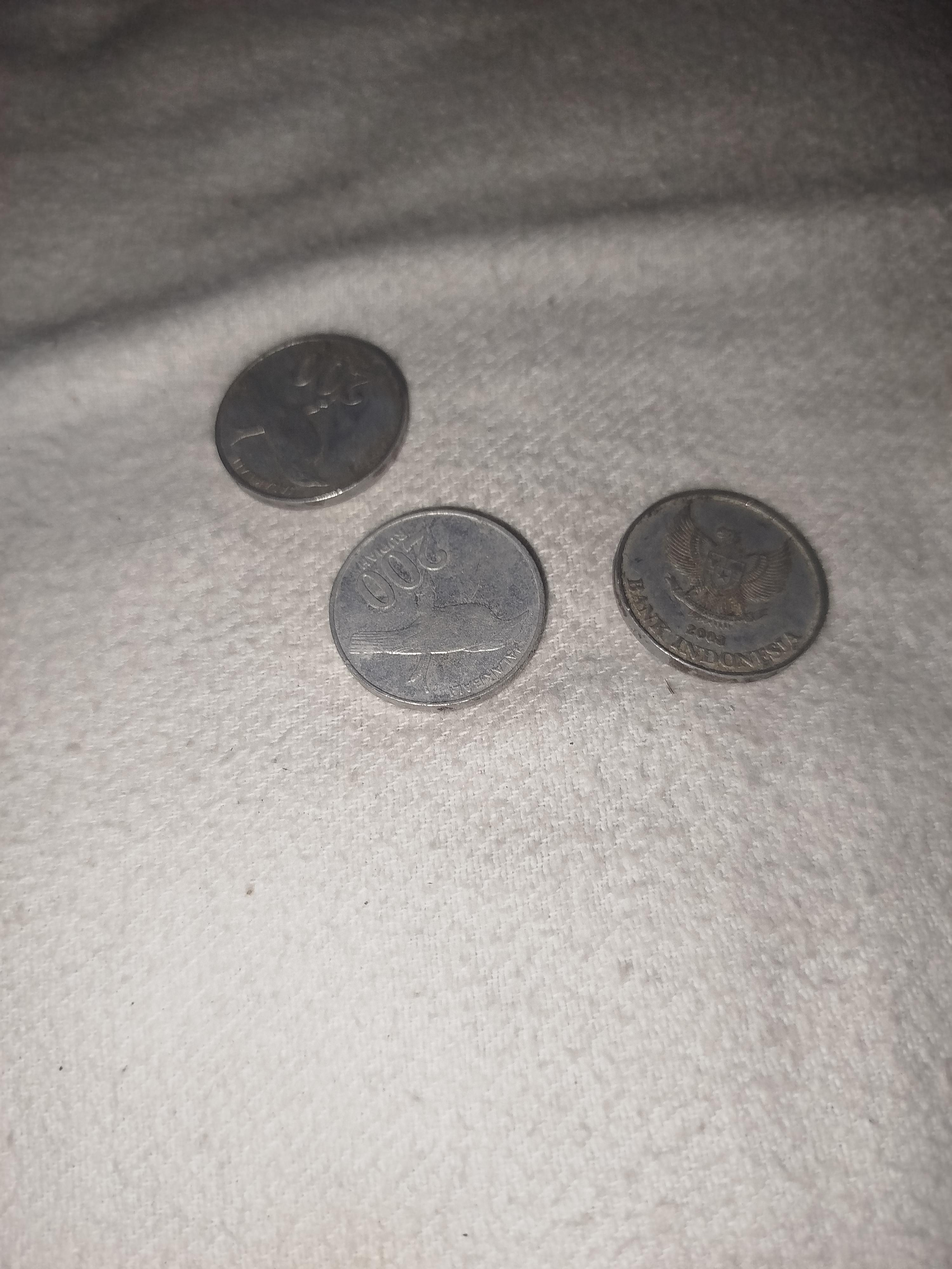coin_200_e2003: (322, 501, 547, 712), (611, 486, 848, 682), (216, 327, 411, 505)
